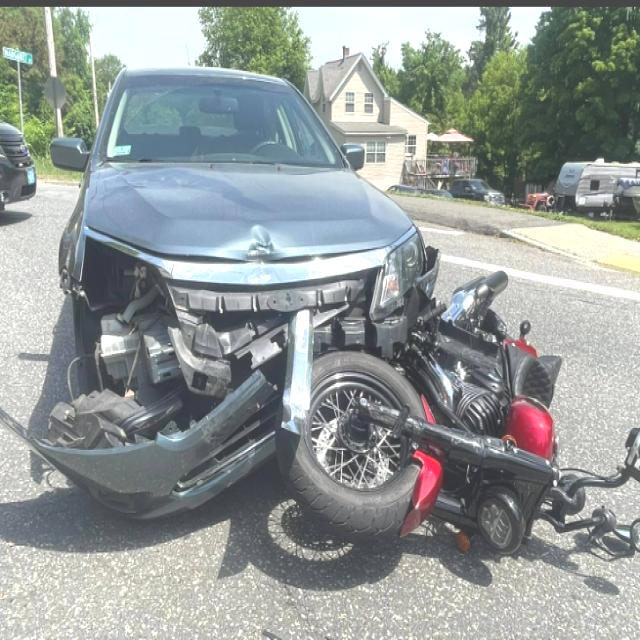accident: (25, 64, 640, 562)
non-accident: (524, 158, 640, 220)
